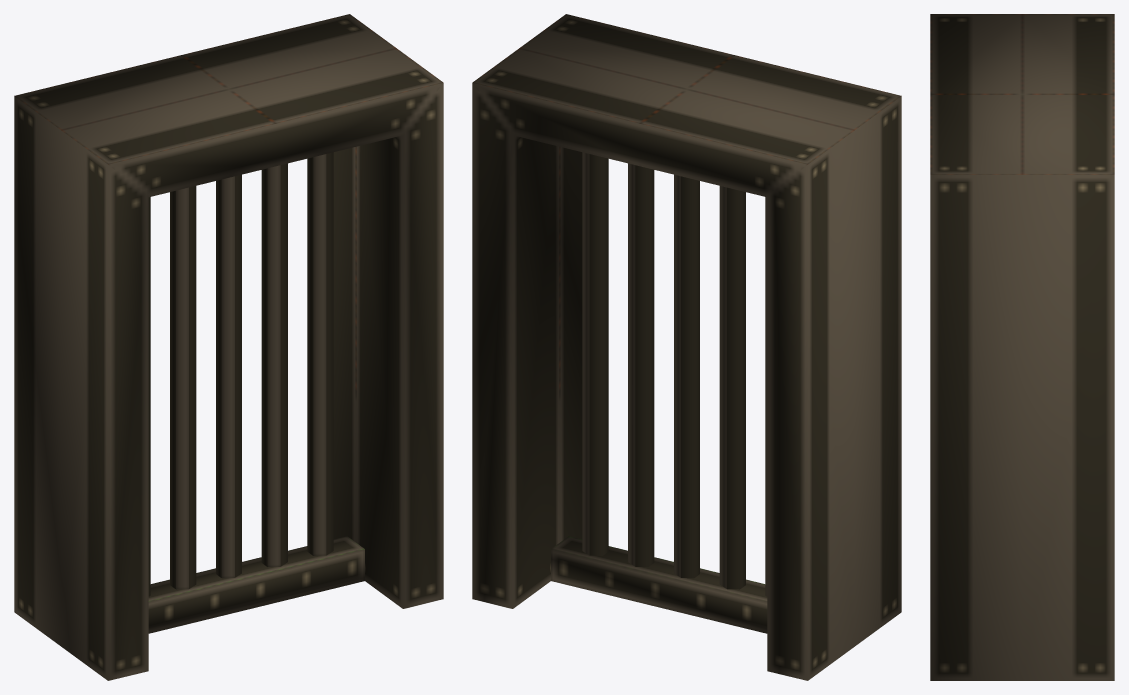
Rendered from ShortDoor.fbx.
3 views of the same model, side by side, from view 1: azimuth 30°, elevation 25°; view 2: azimuth 150°, elevation 25°; view 3: azimuth 270°, elevation 25° (orthographic).
Parts seen in each view (by area): view 1: DoorFrame, ShortDoor; view 2: DoorFrame, ShortDoor; view 3: DoorFrame.
Boxes of the visible parts, x1,y1,x2,y2 form: DoorFrame: [14, 14, 443, 680]; ShortDoor: [148, 152, 364, 633]; DoorFrame: [472, 14, 901, 680]; ShortDoor: [551, 152, 767, 633]; DoorFrame: [930, 14, 1114, 680].
Size of the model in its own units: 206 by 303 by 100.
